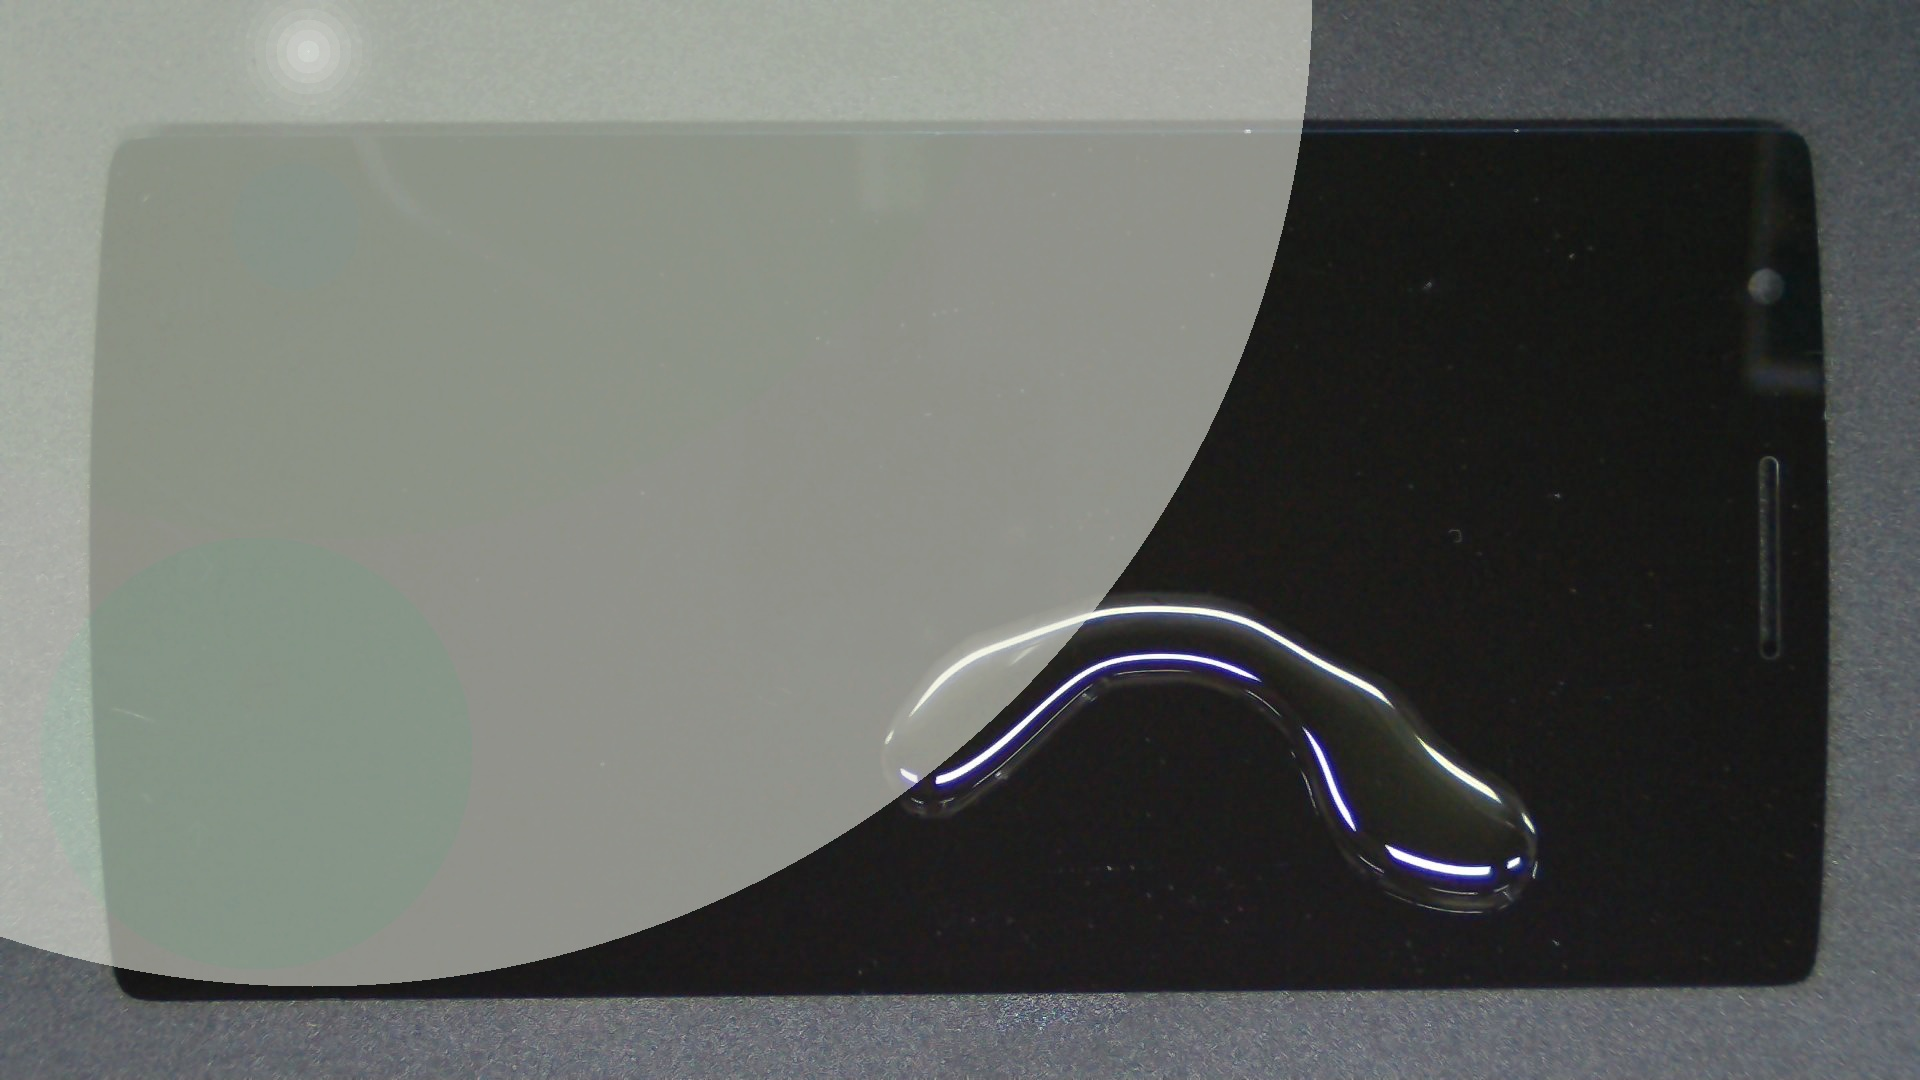oil: (572, 294, 1714, 884)
